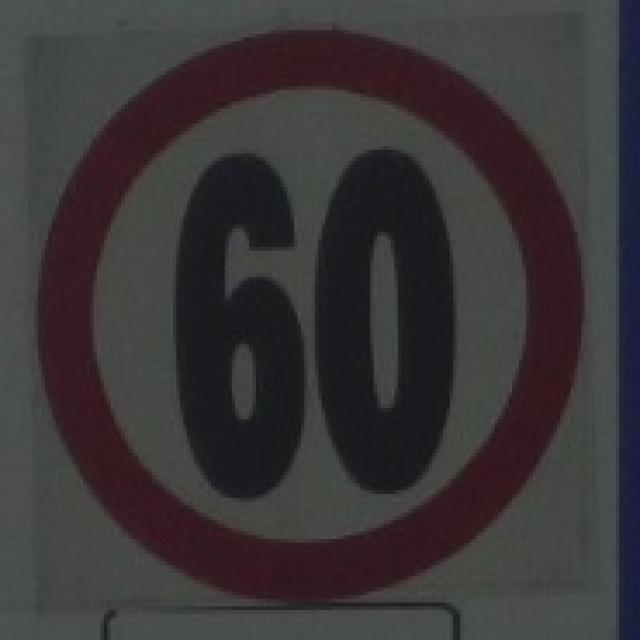Speed Limit -60-: (170, 142, 457, 509)
